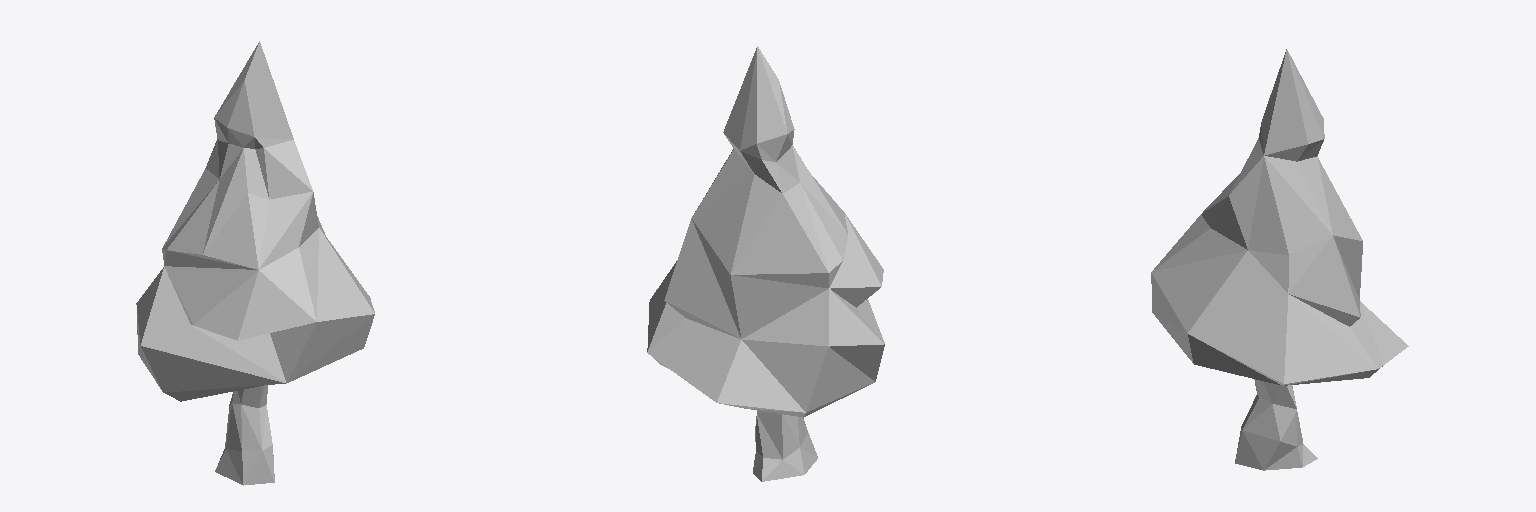
Rendered from Tree.obj.
The picture shows the model from 3 angles: view 1: azimuth 30°, elevation 25°; view 2: azimuth 150°, elevation 25°; view 3: azimuth 270°, elevation 25°; orthographic projection.
Parts seen in each view (by area): view 1: Tree; view 2: Tree; view 3: Tree.
Boxes of the visible parts, x1,y1,x2,y2 form: Tree: [136, 41, 374, 485]; Tree: [647, 46, 884, 481]; Tree: [1151, 49, 1408, 470].
Size of the model in its own units: 130 by 225 by 125.